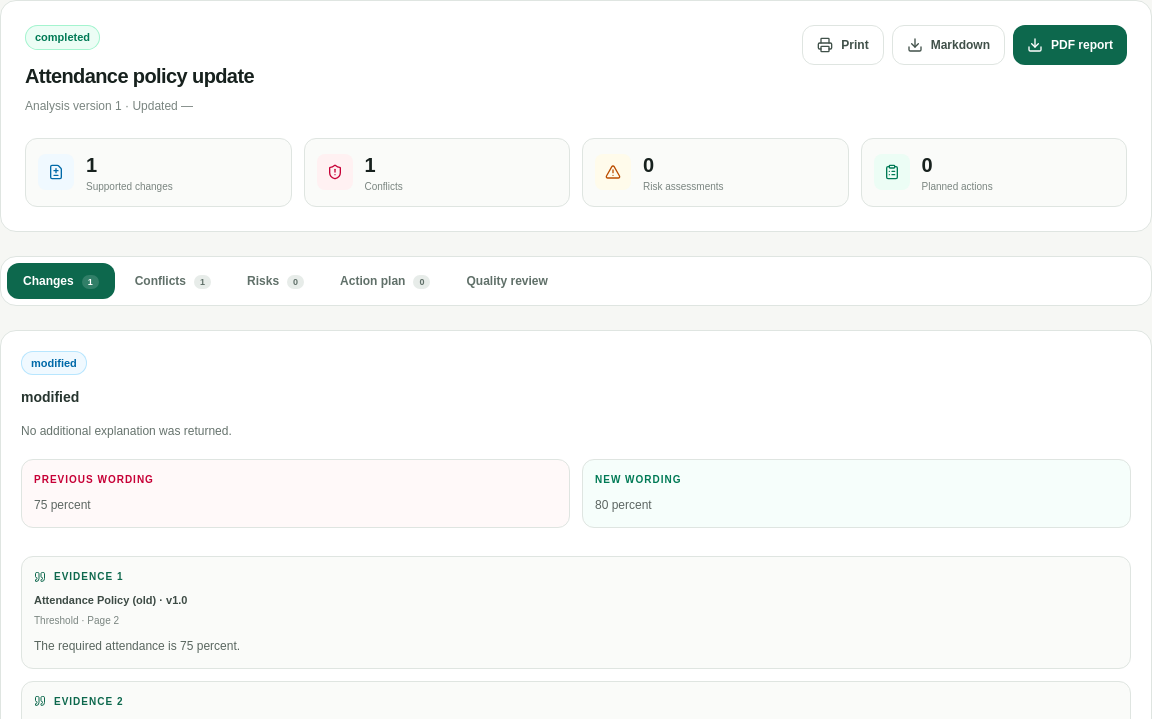
Test: persisted UI data contracts › renders snake/camel paired finding citations and nested workflow quality
Expected: the text "Attendance Policy (old) · v1.0" is shown, [34,594,188,606]
Click the button "Conflicts1". click: (173, 280)
box: [119,262,227,298]
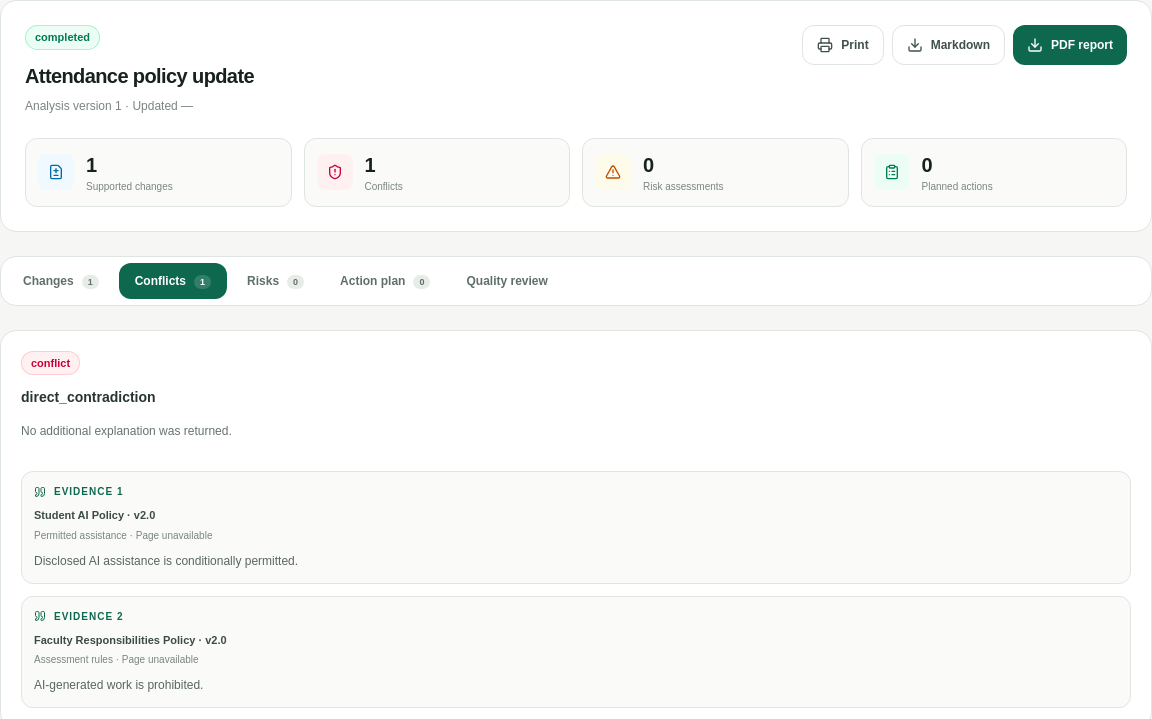
Expected: the text "Student AI Policy · v2.0" is shown, [34,509,155,521]
Expected: the text "Faculty Responsibilities Policy · v2.0" is shown, [34,634,227,646]
Click the button "Quality review". click: (507, 280)
box: [450,262,564,298]
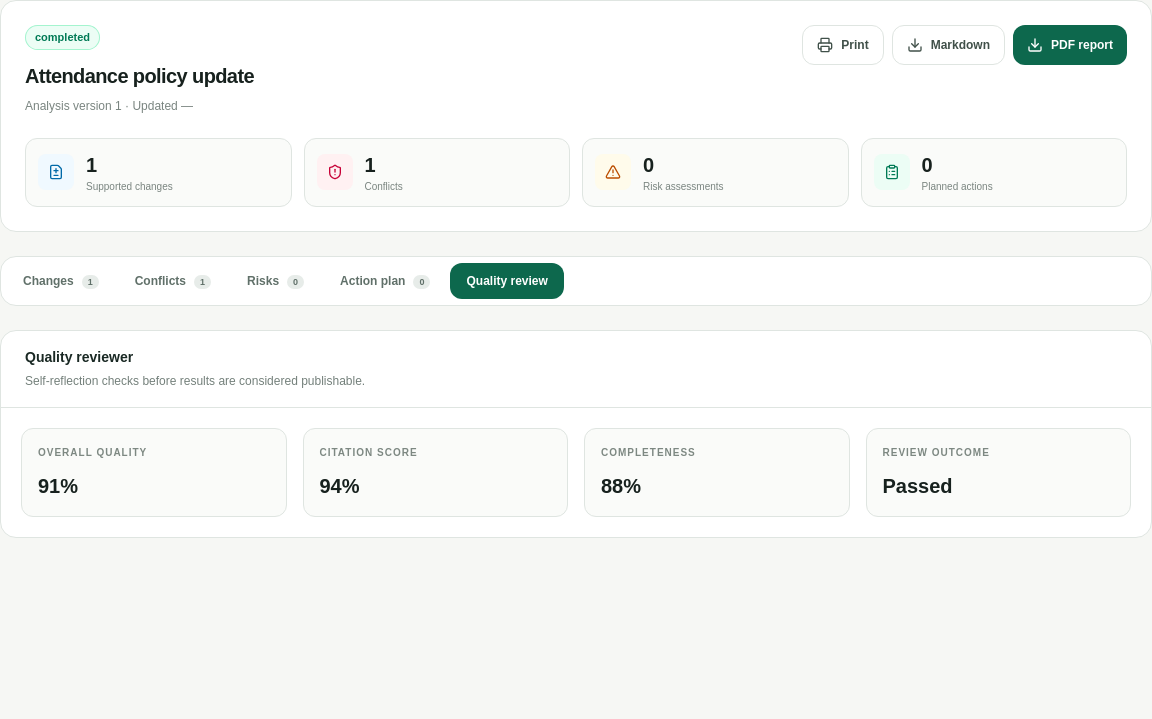
Expected: the text "91%" is shown, [38,474,78,496]
Expected: the text "Passed" is shown, [882,474,953,496]
